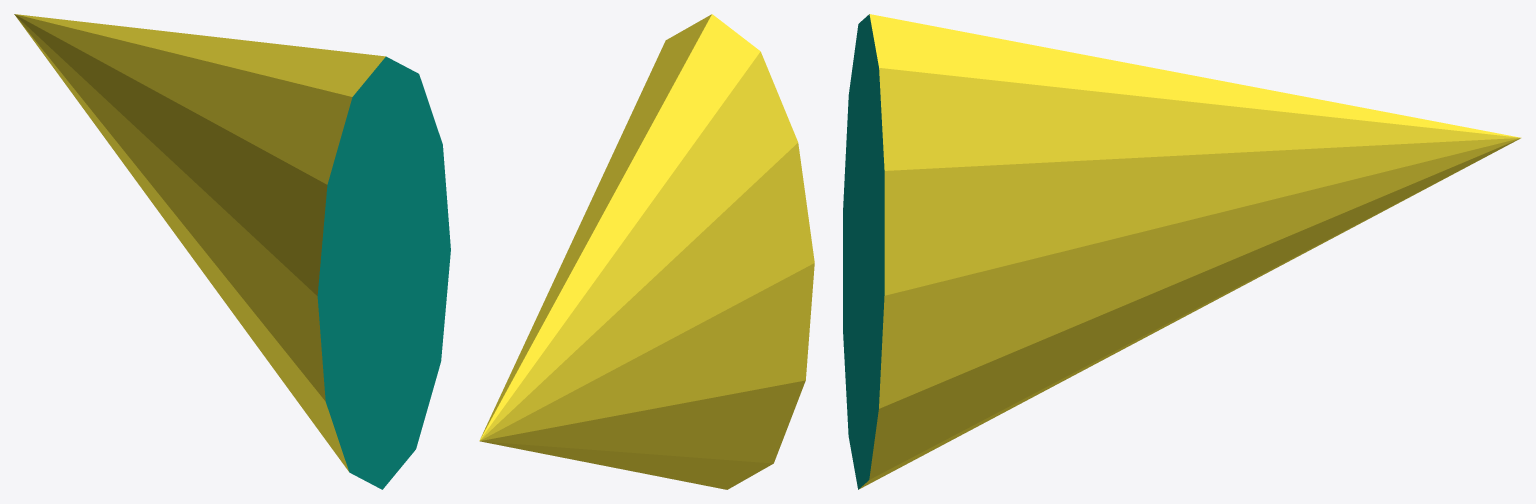
The model's file is n5_n5_group2093058581_lev5.001.glb.
3 renders of one model, left to right at view 1: azimuth 30°, elevation 25°; view 2: azimuth 150°, elevation 25°; view 3: azimuth 270°, elevation 25°, orthographic. The views are drawn at different scales.
Visible parts, largest first — view 1: n5_n5_group2093058581_lev5.001; view 2: n5_n5_group2093058581_lev5.001; view 3: n5_n5_group2093058581_lev5.001.
Part boxes in pixels (x1=…): n5_n5_group2093058581_lev5.001: x1=14, y1=14, x2=450, y2=489; n5_n5_group2093058581_lev5.001: x1=479, y1=14, x2=814, y2=489; n5_n5_group2093058581_lev5.001: x1=843, y1=14, x2=1521, y2=489.
Size of the model in its own units: 0.5815 by 1.55 by 1.98.
